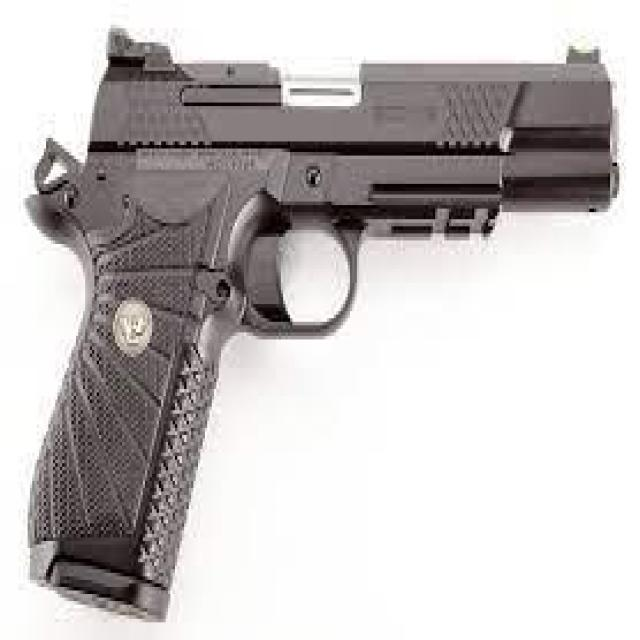gun: (23, 28, 622, 622)
